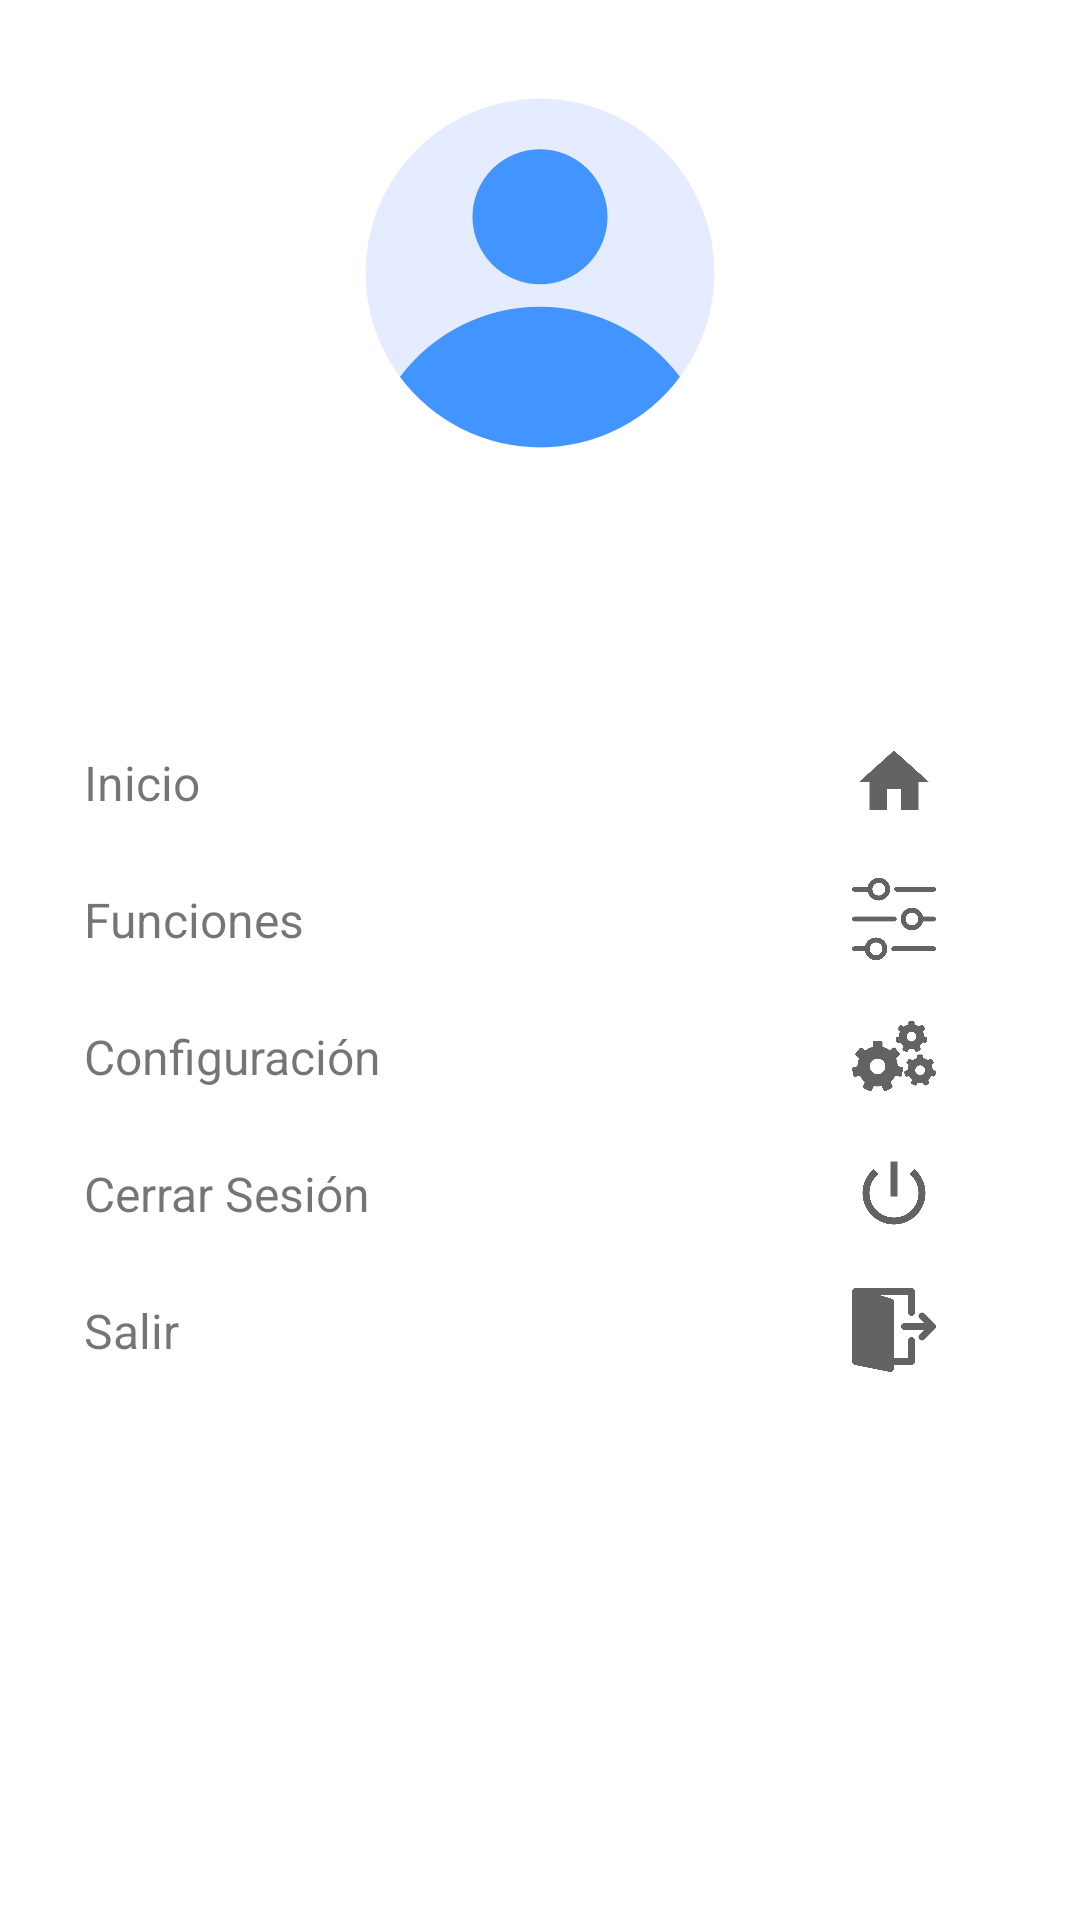

Point at icon controls on the screen. Image size 1080*1920, points as [x,y].
engranajes: [894,1056]
home: [894,780]
power settings: [894,1193]
